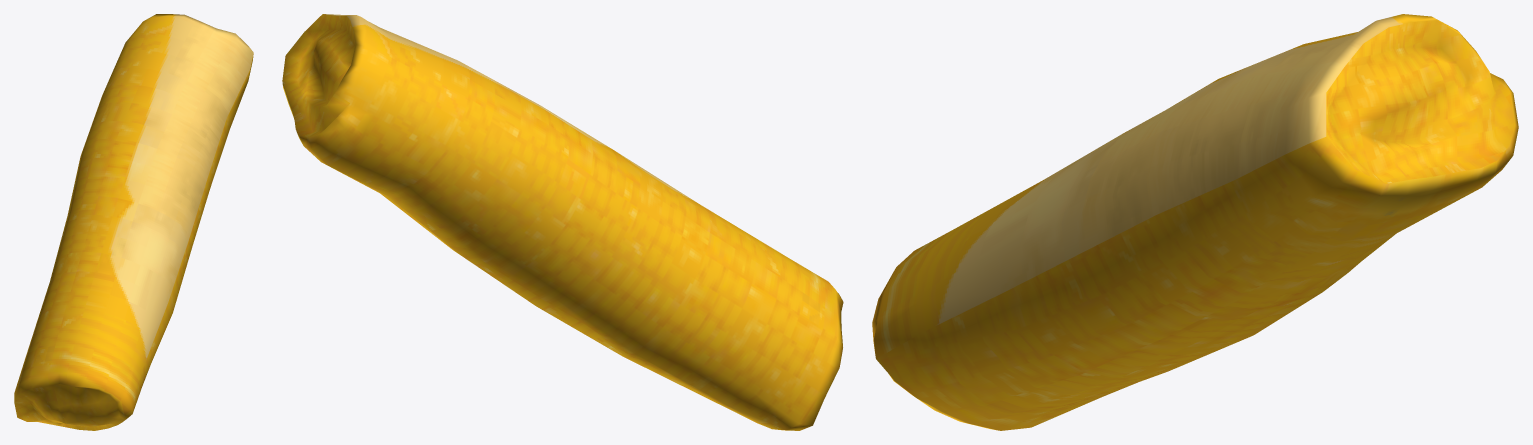
The model's file is ref_bfspringroll.fbx.
The picture shows the model from 3 angles, left to right: view 1: azimuth 30°, elevation 25°; view 2: azimuth 150°, elevation 25°; view 3: azimuth 270°, elevation 25°; orthographic projection. The views are drawn at different scales.
Visible parts, largest first — view 1: ref_bfspringroll; view 2: ref_bfspringroll; view 3: ref_bfspringroll.
Part boxes in pixels (<box>): ref_bfspringroll: <box>14,14,253,430</box>; ref_bfspringroll: <box>282,14,843,430</box>; ref_bfspringroll: <box>872,14,1518,430</box>.
Size of the model in its own units: 100 by 91.6 by 90.92.
